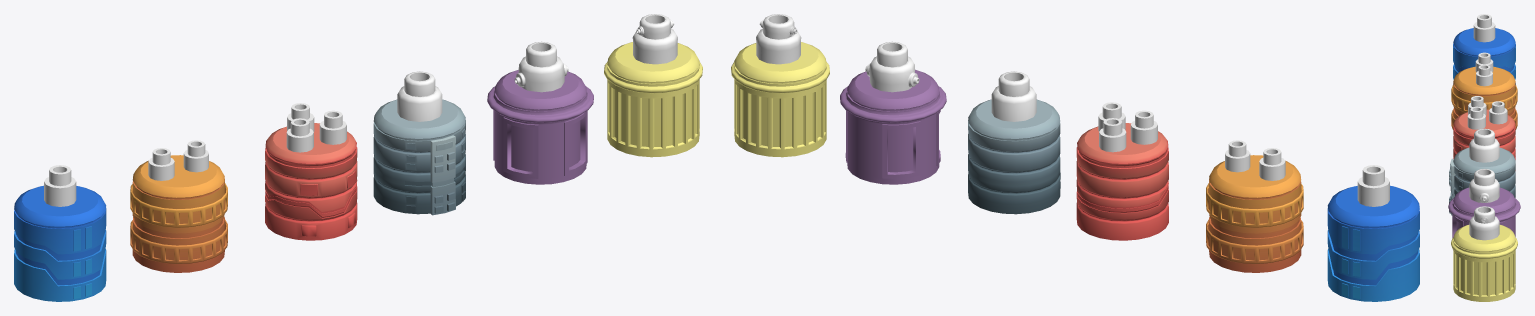
The model's file is drills1.fbx.
3 views of the same model, side by side, from view 1: azimuth 30°, elevation 25°; view 2: azimuth 150°, elevation 25°; view 3: azimuth 270°, elevation 25° (orthographic). The views are drawn at different scales.
Visible parts, largest first — view 1: Cylinder.018, Cylinder.020, Cylinder.019, Cylinder.022, Cylinder.023, Cylinder.024, Cylinder.015, Cylinder.026, Cylinder.021, Cylinder.016, Cylinder.014, Cylinder.008 (+5 smaller); view 2: Cylinder.018, Cylinder.020, Cylinder.019, Cylinder.022, Cylinder.023, Cylinder.024, Cylinder.015, Cylinder.026, Cylinder.021, Cylinder.016, Cylinder.014, Cylinder.008 (+5 smaller); view 3: Cylinder.019, Cylinder.018, Cylinder.022, Cylinder.024, Cylinder.020, Cylinder.023, Cylinder.014, Cylinder.016, Cylinder.015, Cylinder.008, Cylinder.026, Cylinder.012 (+5 smaller).
Boxes of the visible parts, x1,y1,x2,y2 form: Cylinder.018: [14, 185, 106, 301]; Cylinder.020: [487, 70, 593, 184]; Cylinder.019: [604, 42, 702, 157]; Cylinder.022: [373, 99, 465, 215]; Cylinder.023: [265, 123, 357, 240]; Cylinder.024: [132, 155, 224, 272]; Cylinder.015: [514, 41, 568, 92]; Cylinder.026: [130, 183, 227, 227]; Cylinder.021: [130, 219, 227, 263]; Cylinder.016: [632, 14, 677, 64]; Cylinder.014: [397, 71, 442, 121]; Cylinder.008: [44, 165, 76, 206]; Cylinder.018: [1327, 185, 1419, 301]; Cylinder.020: [840, 69, 946, 184]; Cylinder.019: [731, 42, 829, 157]; Cylinder.022: [968, 99, 1060, 214]; Cylinder.023: [1076, 123, 1168, 240]; Cylinder.024: [1209, 155, 1301, 272]; Cylinder.015: [865, 41, 919, 92]; Cylinder.026: [1206, 183, 1303, 227]; Cylinder.021: [1206, 219, 1303, 263]; Cylinder.016: [756, 14, 801, 64]; Cylinder.014: [991, 71, 1036, 121]; Cylinder.008: [1357, 165, 1389, 206]; Cylinder.019: [1451, 225, 1517, 301]; Cylinder.018: [1453, 28, 1515, 84]; Cylinder.022: [1449, 147, 1515, 215]; Cylinder.024: [1453, 66, 1515, 118]; Cylinder.020: [1448, 187, 1520, 249]; Cylinder.023: [1453, 109, 1515, 170]; Cylinder.014: [1469, 128, 1499, 162]; Cylinder.016: [1469, 206, 1499, 240]; Cylinder.015: [1469, 168, 1499, 202]; Cylinder.008: [1473, 14, 1495, 42]; Cylinder.026: [1451, 85, 1517, 112]; Cylinder.012: [1467, 106, 1485, 129].
Size of the model in its own units: 1542 by 257 by 212.
